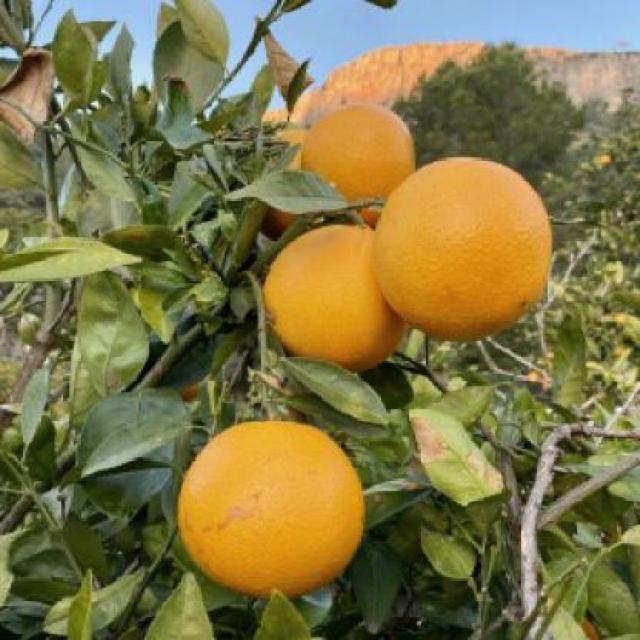Jeruk Sudah Matang: (180, 419, 374, 596), (373, 156, 552, 338), (266, 224, 412, 372), (298, 103, 420, 229)
